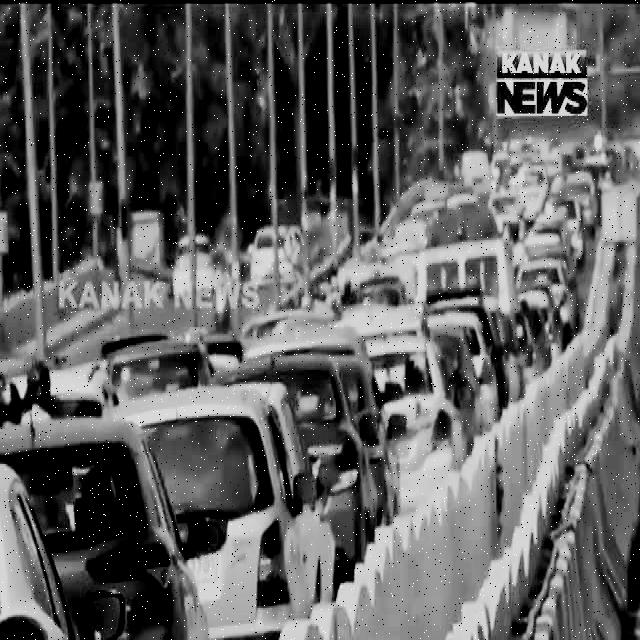Ambulance: (415, 196, 506, 292)
